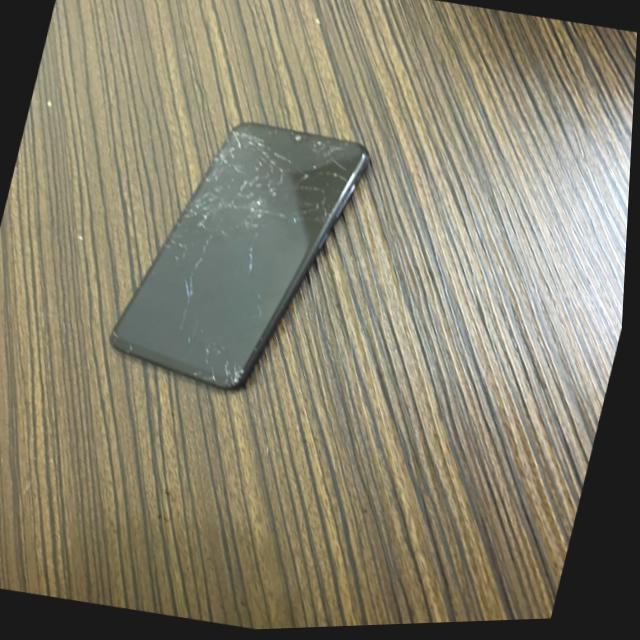Smartphone: (82, 110, 396, 420)
